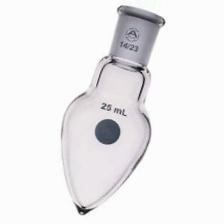Pear shaped flask: (39, 9, 170, 208)
